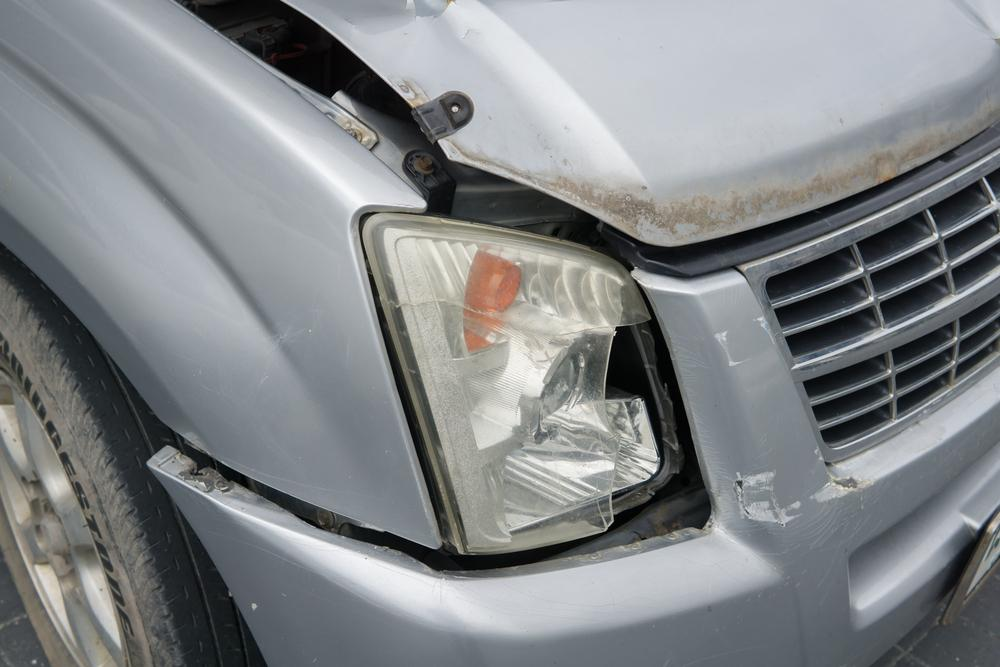lamp broken: (358, 211, 689, 552)
scratch: (733, 460, 862, 532)
